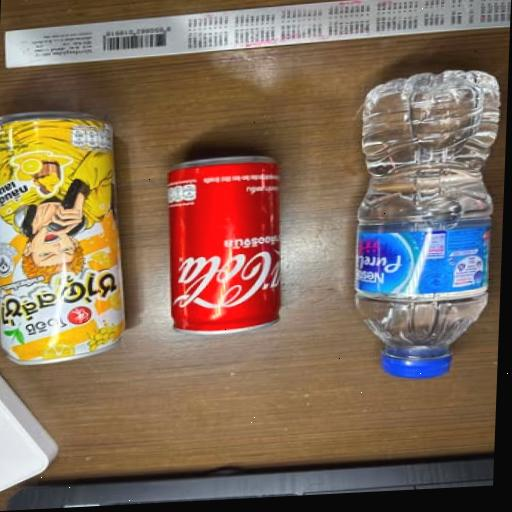ba: (332, 51, 509, 414)
bottle: (0, 95, 135, 392), (141, 137, 301, 361)
